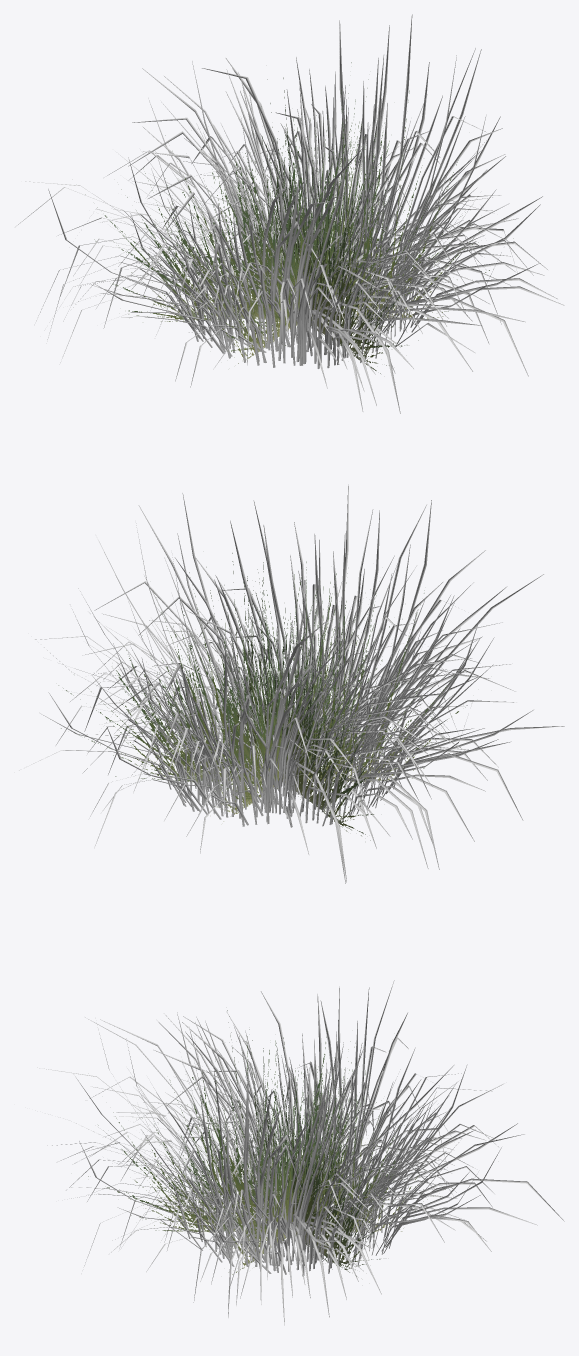
The model's file is PW_Grass_Bush_3.fbx.
The picture shows the model from 3 angles, top to bottom: view 1: azimuth 30°, elevation 25°; view 2: azimuth 150°, elevation 25°; view 3: azimuth 270°, elevation 25°; orthographic projection. The views are drawn at different scales.
Parts seen in each view (by area): view 1: LOD0, Billboard; view 2: LOD0, Billboard; view 3: LOD0, Billboard.
Boxes of the visible parts, x1,y1,x2,y2 form: LOD0: (18,14,564,413); Billboard: (85,62,513,373); LOD0: (19,484,564,883); Billboard: (58,525,467,840); LOD0: (37,980,564,1325); Billboard: (88,1010,445,1274).
Size of what is drawn, in the model's own units: 83.41 by 46.74 by 93.32.
